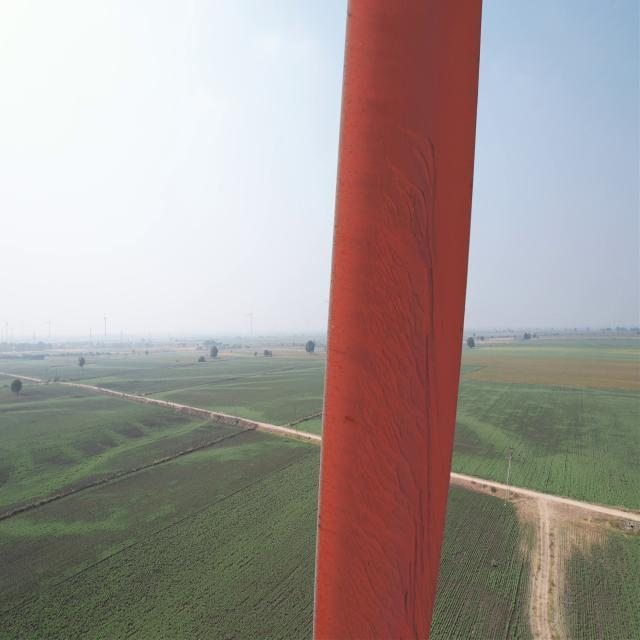Dirt: (326, 0, 444, 635)
